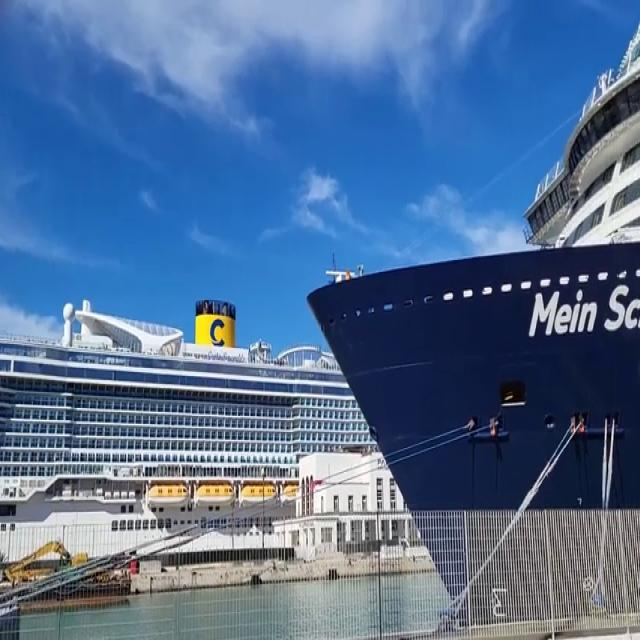passenger ship: (354, 101, 640, 640), (8, 286, 368, 564)
